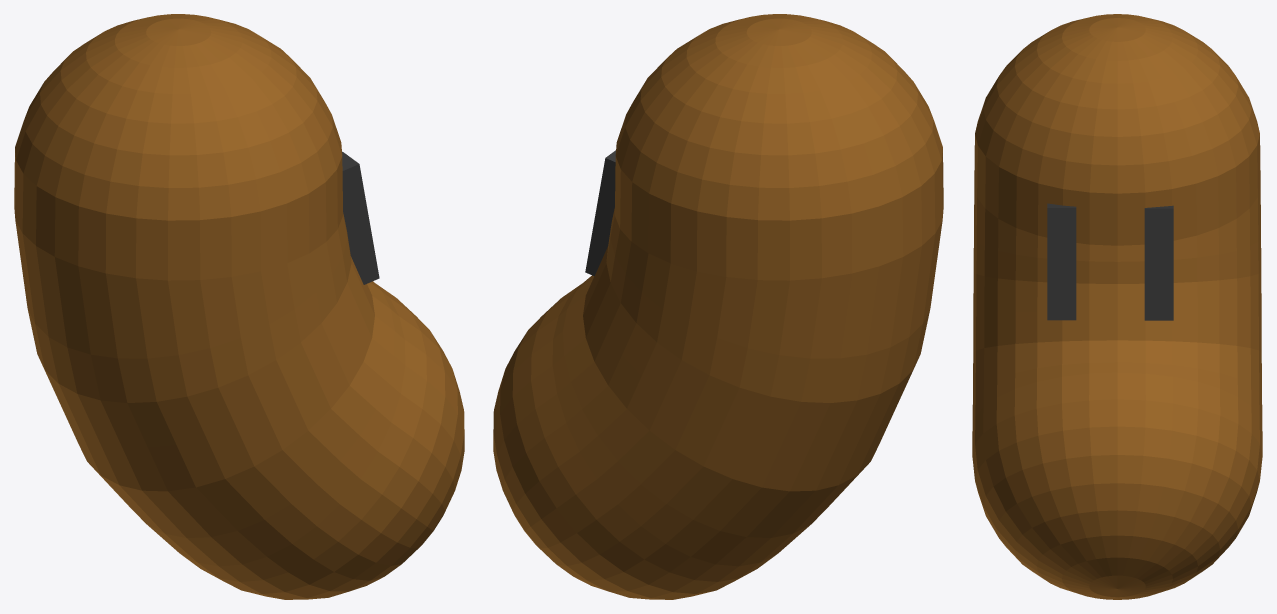
File: beancollectable.fbx
3 renders of one model, left to right at view 1: azimuth 30°, elevation 25°; view 2: azimuth 150°, elevation 25°; view 3: azimuth 270°, elevation 25°, orthographic. The views are drawn at different scales.
Parts seen in each view (by area): view 1: Sphere; view 2: Sphere; view 3: Sphere.
Boxes of the visible parts, box(x1,y1,x2,y2) form: Sphere: box(14, 14, 464, 599); Sphere: box(493, 14, 943, 599); Sphere: box(972, 14, 1262, 599).
Size of the model in its own units: 281 by 386 by 200.
